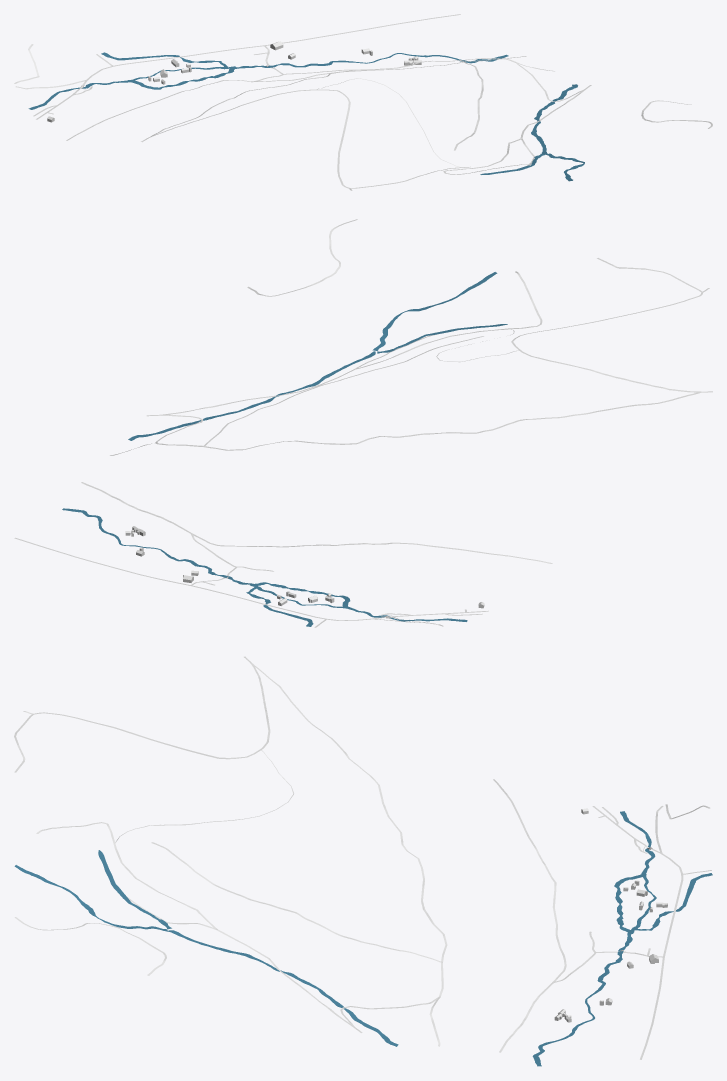
The model's file is objekty.glb.
3 views of the same model, one above another, from view 1: azimuth 30°, elevation 25°; view 2: azimuth 150°, elevation 25°; view 3: azimuth 270°, elevation 25° (orthographic). The views are drawn at different scales.
Parts seen in each view (by area): view 1: Cesty_08_00, Voda_08_00, Budovy_08_00; view 2: Cesty_08_00, Voda_08_00; view 3: Cesty_08_00, Voda_08_00, Budovy_08_00.
Part boxes in pixels (box(x1,y1,x2,y2)): Cesty_08_00: box(14, 14, 712, 190); Voda_08_00: box(28, 52, 584, 181); Budovy_08_00: box(47, 41, 421, 122); Cesty_08_00: box(14, 219, 712, 627); Voda_08_00: box(62, 272, 507, 626); Cesty_08_00: box(14, 656, 711, 1059); Voda_08_00: box(14, 811, 712, 1066); Budovy_08_00: box(554, 808, 667, 1022).
Size of the model in its own units: 899 by 238 by 1005.
